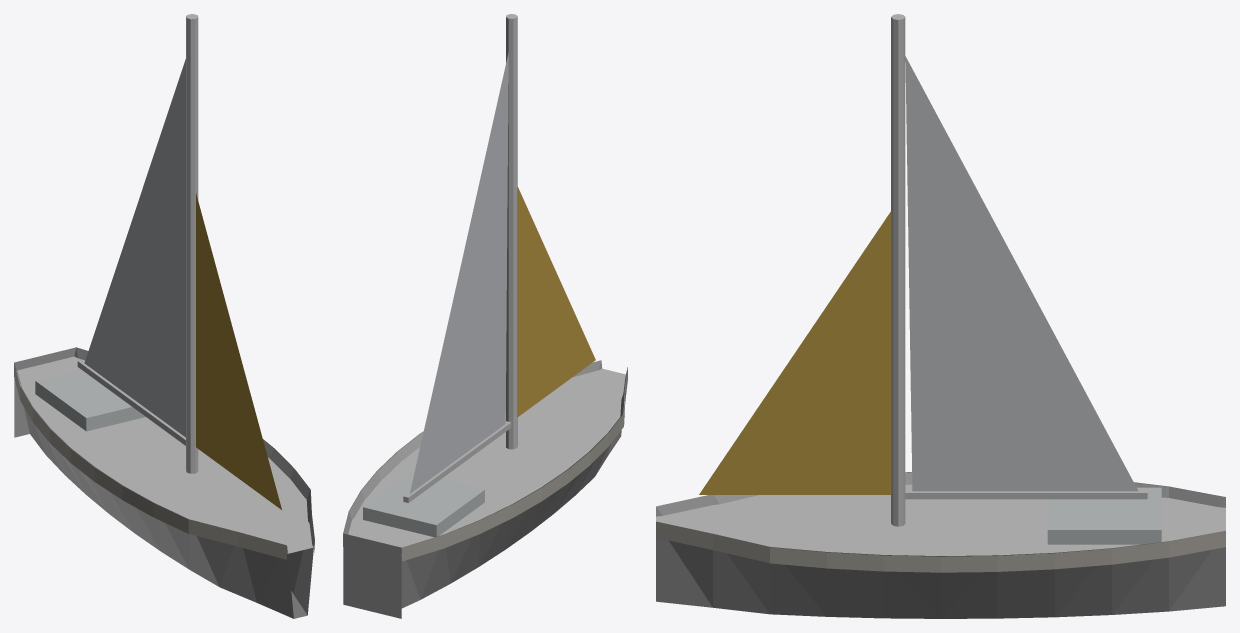
Rendered from boat_sail.glb.
The picture shows the model from 3 angles, left to right: view 1: azimuth 30°, elevation 25°; view 2: azimuth 150°, elevation 25°; view 3: azimuth 270°, elevation 25°; orthographic projection. The views are drawn at different scales.
Visible parts, largest first — view 1: boat_sail; view 2: boat_sail; view 3: boat_sail.
Boxes of the visible parts, x1,y1,x2,y2 form: boat_sail: (14,14,314,618); boat_sail: (343,14,627,618); boat_sail: (656,14,1225,618).
Bounding box in the file's own units: 2.83 × 9 × 8.
